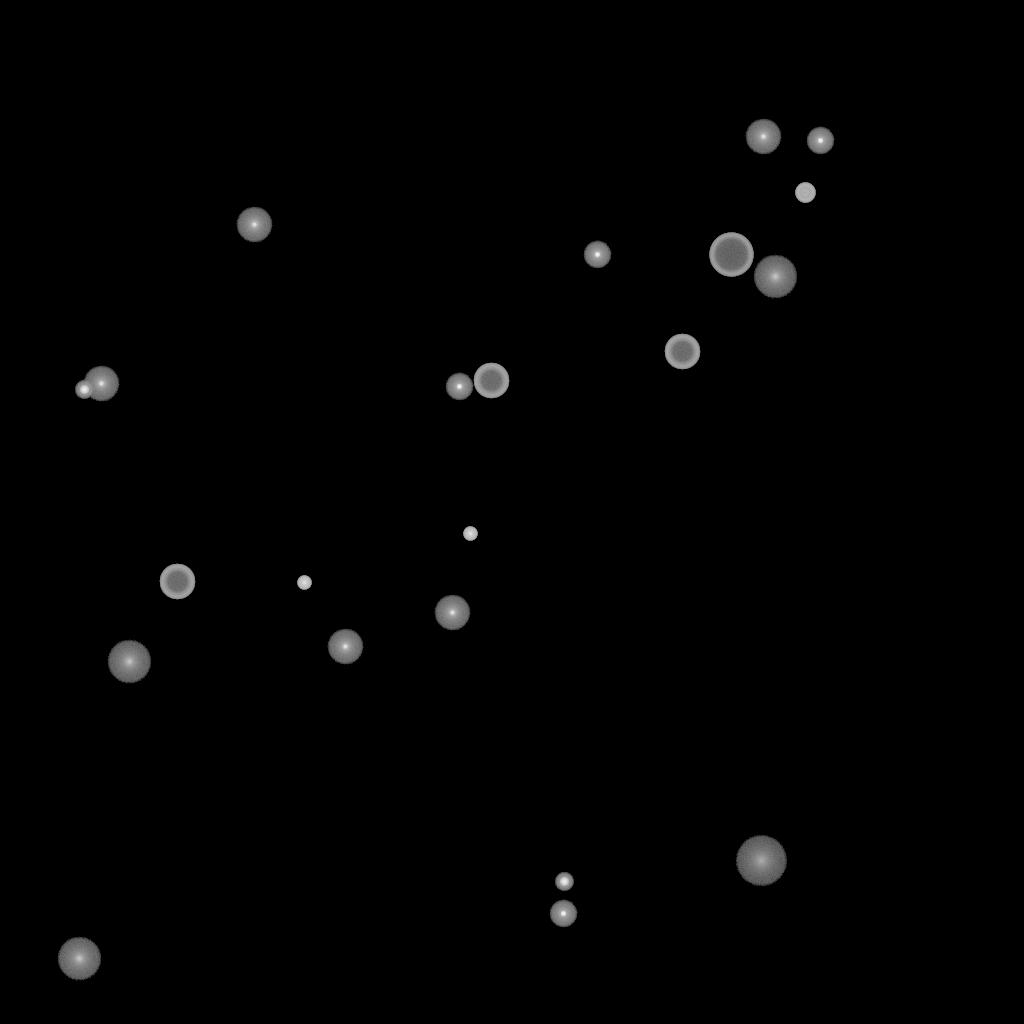depth:-10: (445, 373, 473, 401), (583, 241, 611, 269), (806, 127, 834, 155), (549, 900, 577, 928)
depth:-20: (555, 873, 573, 891), (75, 381, 93, 399)
depth:-30: (297, 576, 311, 590), (463, 527, 477, 541)
depth:-40: (795, 183, 815, 203)
depth:-60: (473, 363, 509, 399), (664, 334, 700, 370), (159, 564, 195, 600)
depth:-70: (709, 233, 753, 277)
depth:0: (327, 629, 363, 665), (434, 595, 470, 631), (745, 119, 781, 155), (236, 207, 272, 243), (83, 366, 119, 402)
depth:10: (57, 937, 101, 981), (107, 640, 151, 684), (753, 255, 797, 299)
depth:20: (735, 836, 787, 886)
